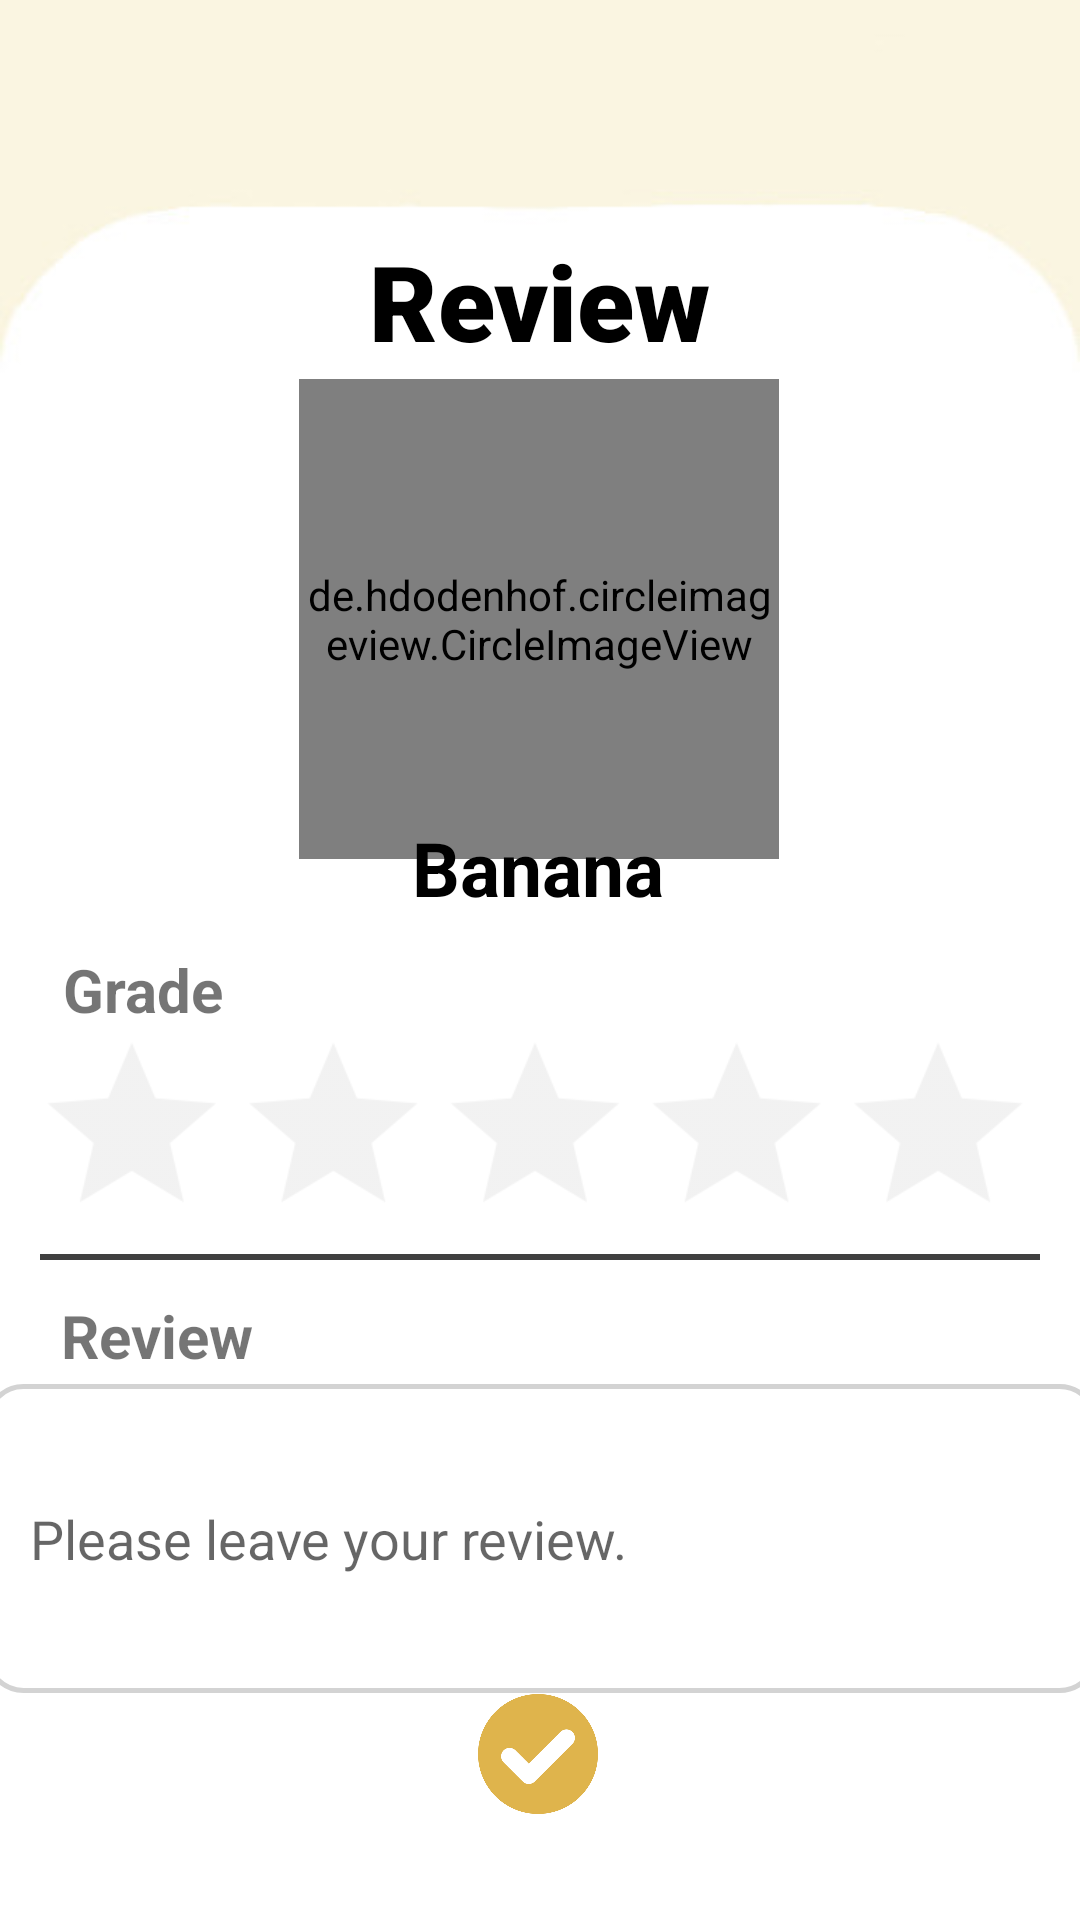

Icon bounding boxes for this 1080×1920 phone screenshot, format bbox=(x1, y1, x2, y2):
review check: bbox=(478, 1694, 598, 1814)
